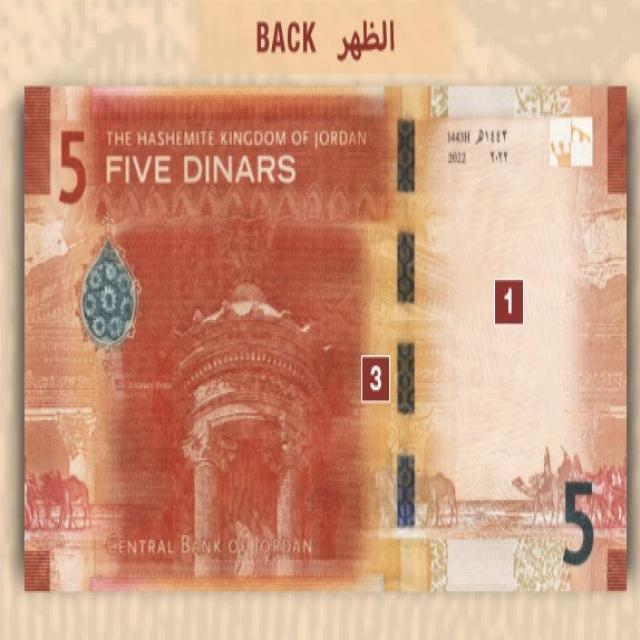5-dinar: (25, 82, 628, 592)
